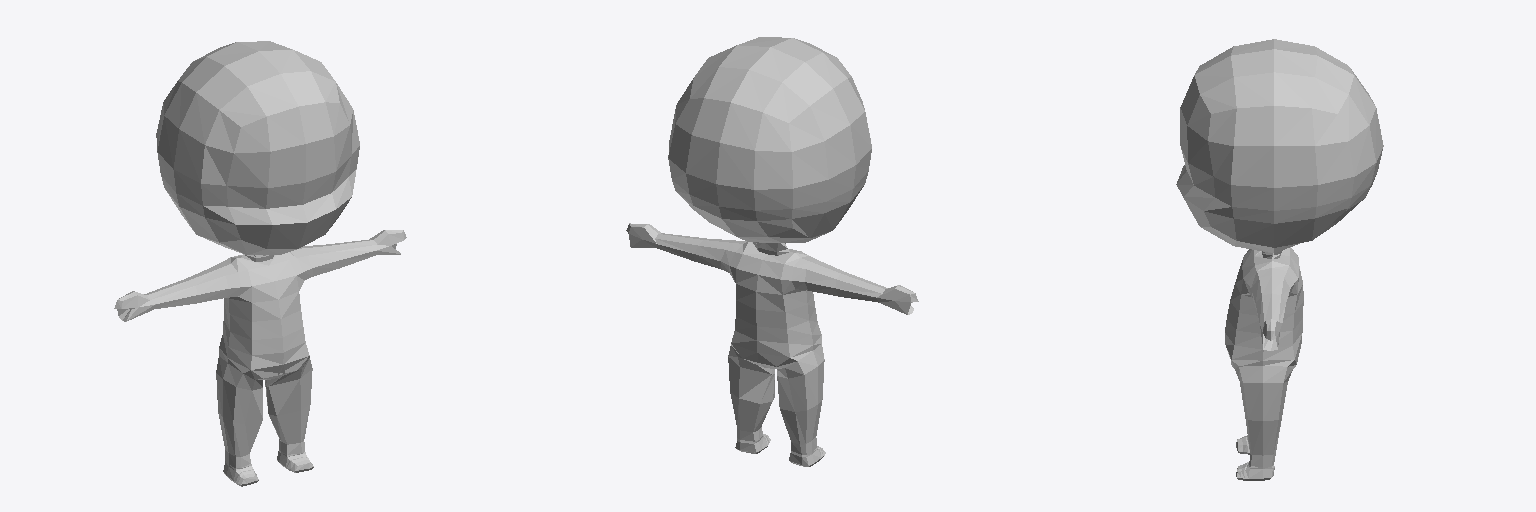
Rendered from Basic_Character_Model.obj.
3 renders of one model, left to right at view 1: azimuth 30°, elevation 25°; view 2: azimuth 150°, elevation 25°; view 3: azimuth 270°, elevation 25°, orthographic.
Parts seen in each view (by area): view 1: pCube5; view 2: pCube5; view 3: pCube5.
Part boxes in pixels (bbox=[...]): pCube5: bbox=[114, 41, 406, 486]; pCube5: bbox=[626, 37, 918, 466]; pCube5: bbox=[1176, 39, 1383, 480].
Bounding box in the file's own units: 2.31 × 3.12 × 1.42.